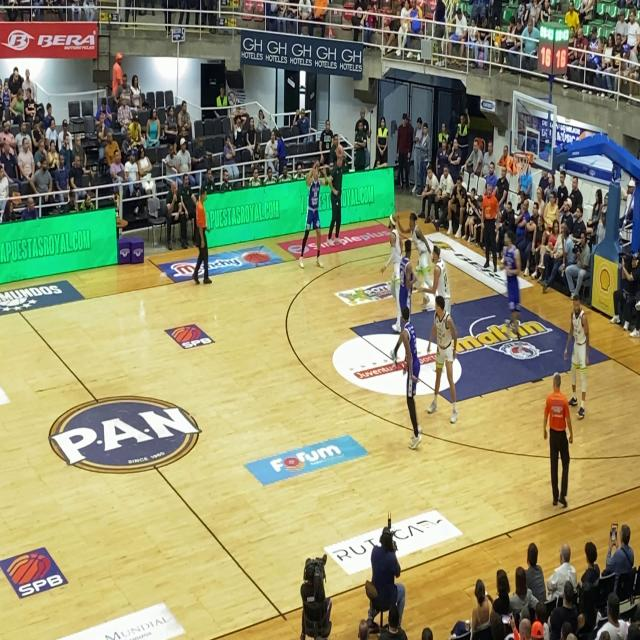Ball: (334, 138, 344, 165)
referee: (542, 365, 579, 522), (185, 175, 215, 296), (471, 181, 505, 278)
team1: (560, 285, 598, 417), (428, 289, 462, 424), (373, 203, 403, 334), (424, 243, 452, 307), (398, 200, 429, 254)
team2: (382, 289, 432, 458), (302, 157, 330, 265), (501, 221, 522, 350), (395, 231, 419, 318)
ubasket: (510, 142, 534, 180)
